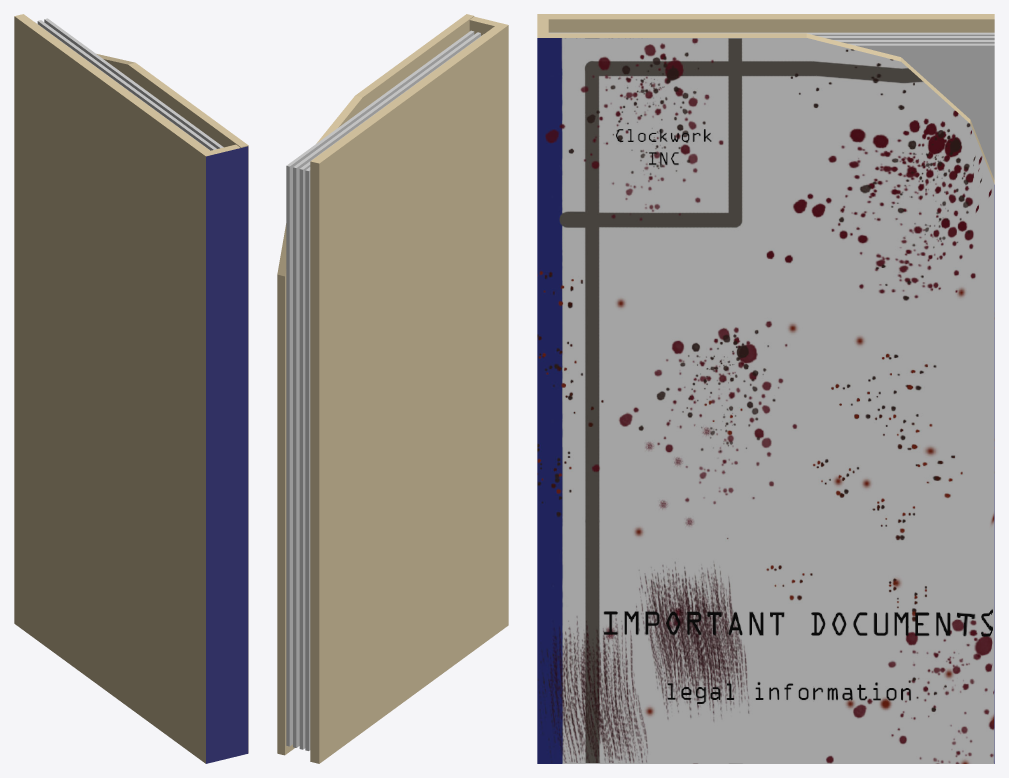
The model's file is documents.fbx.
3 views of the same model, side by side, from view 1: azimuth 30°, elevation 25°; view 2: azimuth 150°, elevation 25°; view 3: azimuth 270°, elevation 25° (orthographic). The views are drawn at different scales.
Parts seen in each view (by area): view 1: Cube; view 2: Cube; view 3: Cube.
Part boxes in pixels (x1,y1,x2,y2): Cube: (14, 14, 248, 763); Cube: (277, 14, 508, 763); Cube: (537, 14, 994, 763).
Size of the model in its own units: 25.65 by 350 by 200.
